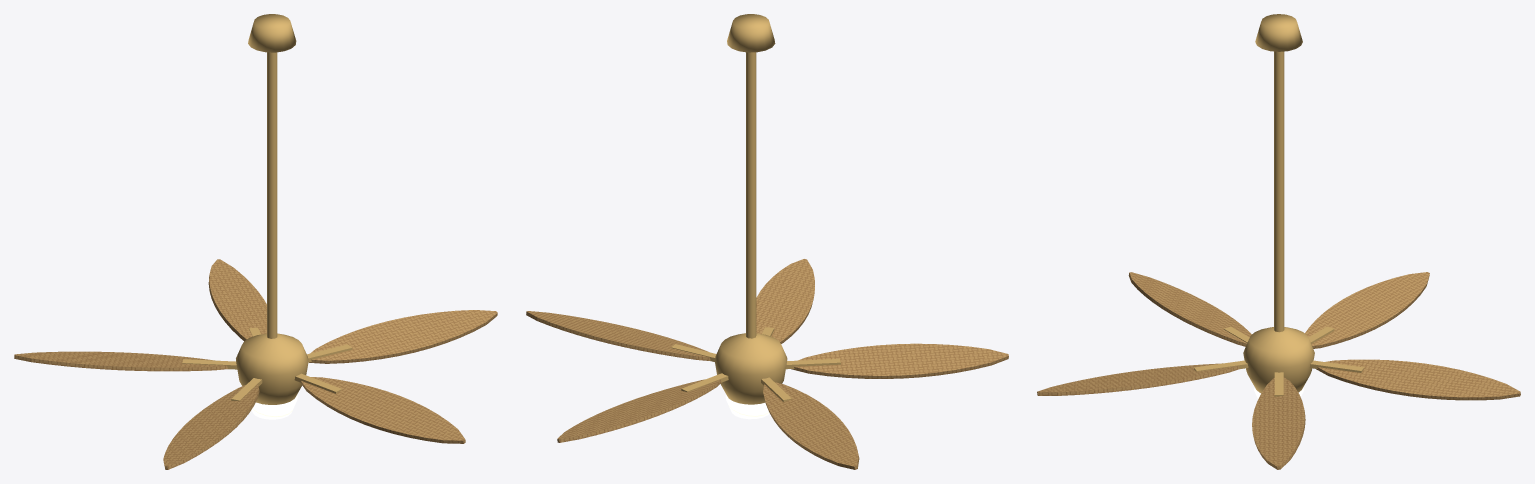
Rendered from fan.glb.
3 renders of one model, left to right at view 1: azimuth 30°, elevation 25°; view 2: azimuth 150°, elevation 25°; view 3: azimuth 270°, elevation 25°, orthographic. The views are drawn at different scales.
Parts seen in each view (by area): view 1: resort; view 2: resort; view 3: resort.
Part boxes in pixels (box(x1,y1,x2,y2)): resort: box(14, 14, 497, 469); resort: box(526, 14, 1008, 469); resort: box(1037, 14, 1520, 469).
Size of the model in its own units: 3.08 by 2.86 by 3.24.
Materials: 3 (1 with a texture image).
